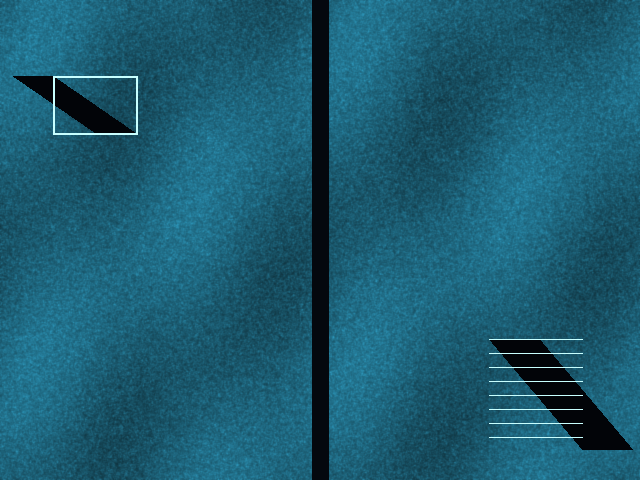Fishing Net: (489, 339, 582, 449)
Plastic Debris: (53, 76, 137, 134)
